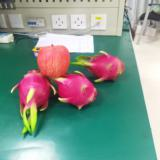apple: (38, 44, 71, 79)
pitaya: (16, 70, 52, 129), (48, 72, 97, 108), (74, 51, 122, 81)
